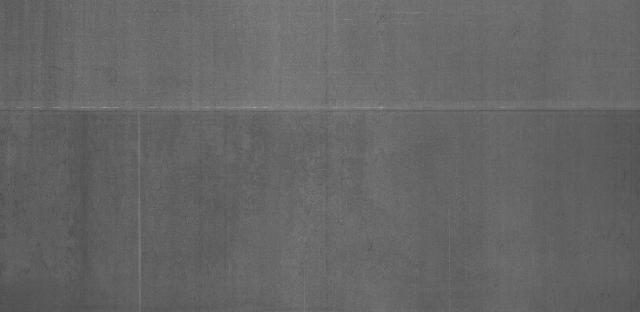welding_line: (6, 97, 640, 123)
